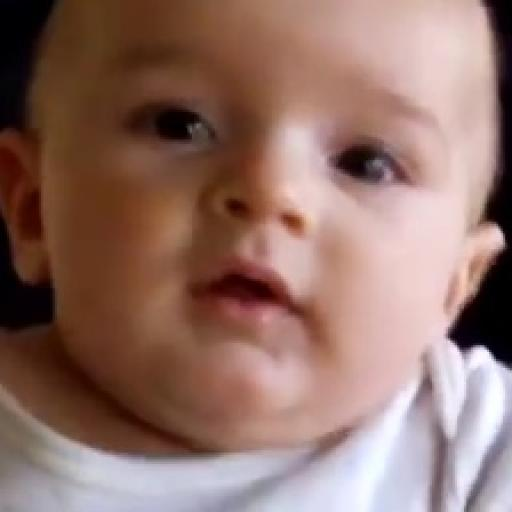Autism: (44, 2, 447, 402)
